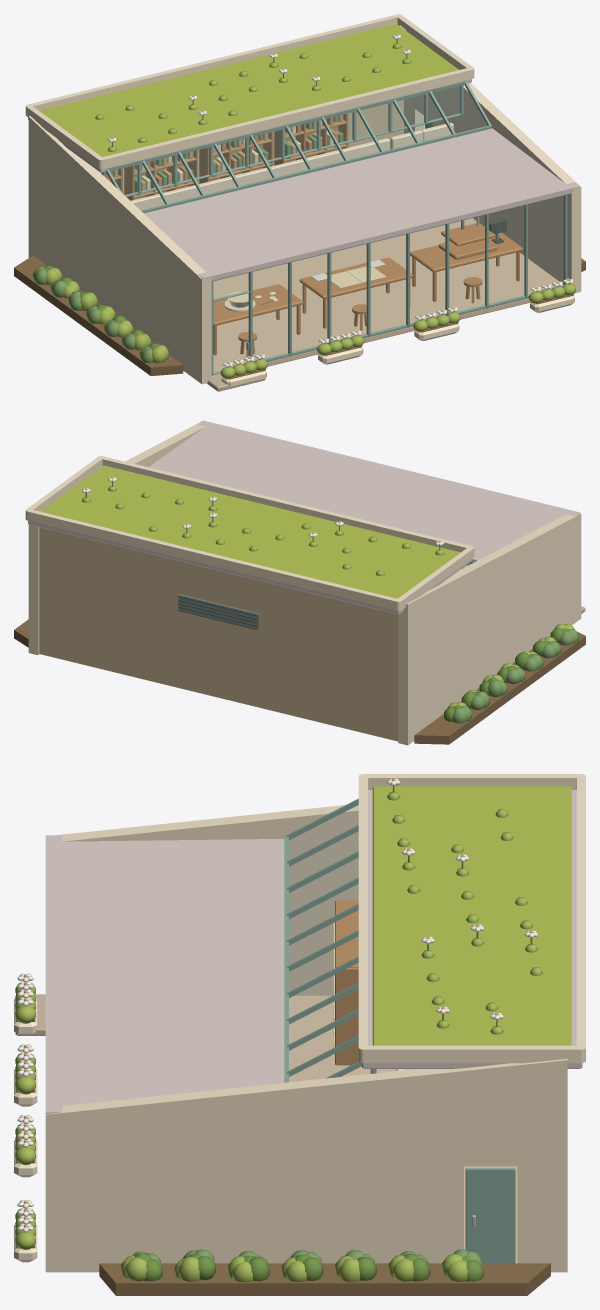
The picture shows the model from 3 angles, top to bottom: view 1: azimuth 30°, elevation 25°; view 2: azimuth 150°, elevation 25°; view 3: azimuth 270°, elevation 25°; orthographic projection. The views are drawn at different scales.
Visible parts, largest first — view 1: A 厚混凝土侧翼, R 前工作间薄屋面, R 保存区草屋面, S 修复中心室内地坪, R 草屋顶矮女儿墙, I 工作桌, A 前连续修复工作窗, A 保存区隔墙, L 地被与灌丛, R 天窗边框, I 分类小商品, L 侧坡种植土 (+13 smaller); view 2: A 后保存库墙, A 厚混凝土侧翼, R 前工作间薄屋面, R 保存区草屋面, R 草屋顶矮女儿墙, L 地被与灌丛, L 侧坡种植土, R 保存区屋面, L 屋顶草簇, D 后侧百叶, D 后侧百叶片; view 3: A 厚混凝土侧翼, R 前工作间薄屋面, R 保存区草屋面, R 草屋顶矮女儿墙, L 侧坡种植土, L 地被与灌丛, R 天窗细框, A 右后服务门, S 修复中心室内地坪, R 保存区屋面, L 花瓣, L 屋顶草簇 (+5 smaller).
Part boxes in pixels (left/top/right/bottom): A 厚混凝土侧翼: left=28, top=25, right=581, bottom=384; R 前工作间薄屋面: left=144, top=128, right=580, bottom=282; R 保存区草屋面: left=39, top=24, right=458, bottom=156; S 修复中心室内地坪: left=212, top=218, right=563, bottom=375; R 草屋顶矮女儿墙: left=25, top=14, right=474, bottom=169; I 工作桌: left=213, top=232, right=522, bottom=355; A 前连续修复工作窗: left=211, top=194, right=567, bottom=375; A 保存区隔墙: left=130, top=122, right=453, bottom=210; L 地被与灌丛: left=33, top=265, right=168, bottom=363; R 天窗边框: left=107, top=81, right=491, bottom=213; I 分类小商品: left=105, top=114, right=343, bottom=195; L 侧坡种植土: left=14, top=255, right=585, bottom=375; A 后保存库墙: left=39, top=510, right=398, bottom=741; A 厚混凝土侧翼: left=28, top=422, right=581, bottom=745; R 前工作间薄屋面: left=149, top=420, right=580, bottom=565; R 保存区草屋面: left=41, top=465, right=460, bottom=598; R 草屋顶矮女儿墙: left=25, top=456, right=474, bottom=610; L 地被与灌丛: left=444, top=624, right=578, bottom=723; L 侧坡种植土: left=14, top=619, right=585, bottom=744; R 保存区屋面: left=28, top=521, right=471, bottom=614; L 屋顶草簇: left=82, top=486, right=444, bottom=575; D 后侧百叶: left=178, top=594, right=259, bottom=629; D 后侧百叶片: left=178, top=596, right=257, bottom=629; A 厚混凝土侧翼: left=45, top=805, right=567, bottom=1272; R 前工作间薄屋面: left=45, top=835, right=284, bottom=1113; R 保存区草屋面: left=372, top=786, right=571, bottom=1045; R 草屋顶矮女儿墙: left=358, top=774, right=585, bottom=1063; L 侧坡种植土: left=99, top=1263, right=550, bottom=1295; L 地被与灌丛: left=121, top=1249, right=483, bottom=1282; R 天窗细框: left=285, top=798, right=361, bottom=1078; A 右后服务门: left=465, top=1168, right=515, bottom=1263; S 修复中心室内地坪: left=289, top=995, right=517, bottom=1263; R 保存区屋面: left=362, top=790, right=582, bottom=1068; L 花瓣: left=17, top=778, right=538, bottom=1232; L 屋顶草簇: left=387, top=791, right=542, bottom=1034.
Bounding box in the file's own units: 22.6 × 7.83 × 17.1.
